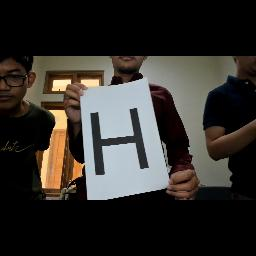h: (86, 108, 156, 176)
